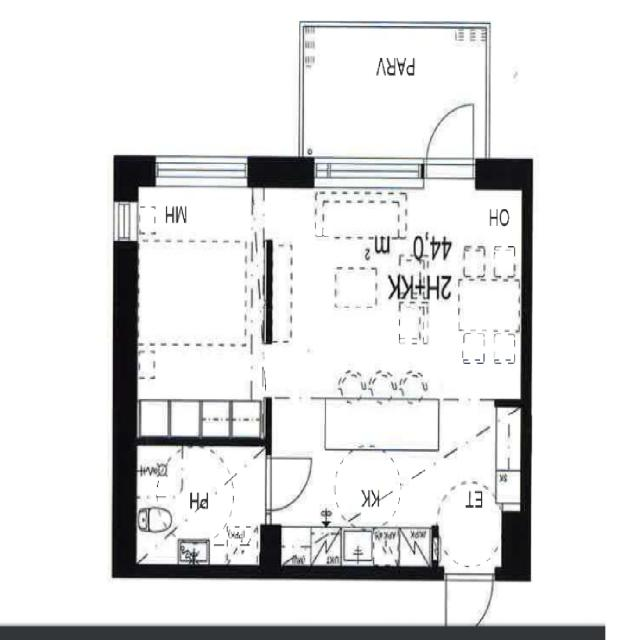door: (300, 182, 540, 410), (423, 99, 480, 179), (260, 451, 314, 522), (442, 568, 498, 627)
window: (307, 149, 425, 188), (150, 154, 253, 188), (111, 195, 141, 247)
zone: (132, 173, 264, 447), (270, 447, 448, 570), (134, 442, 270, 568), (439, 480, 503, 574)
